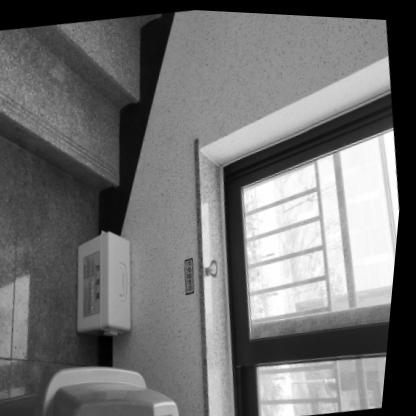DDL: (67, 225, 146, 338)
